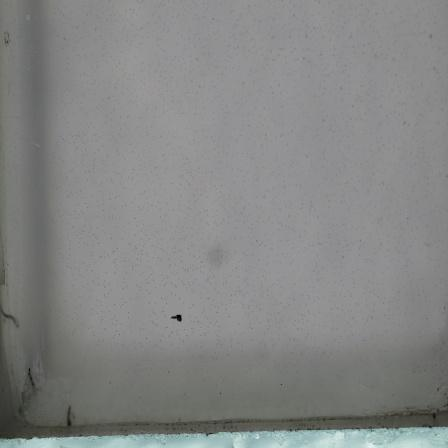Jentik-Nyamuk: (62, 403, 77, 428), (167, 310, 184, 328)
